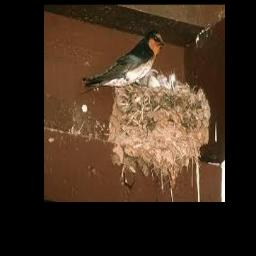Swallow: (83, 31, 164, 89)
